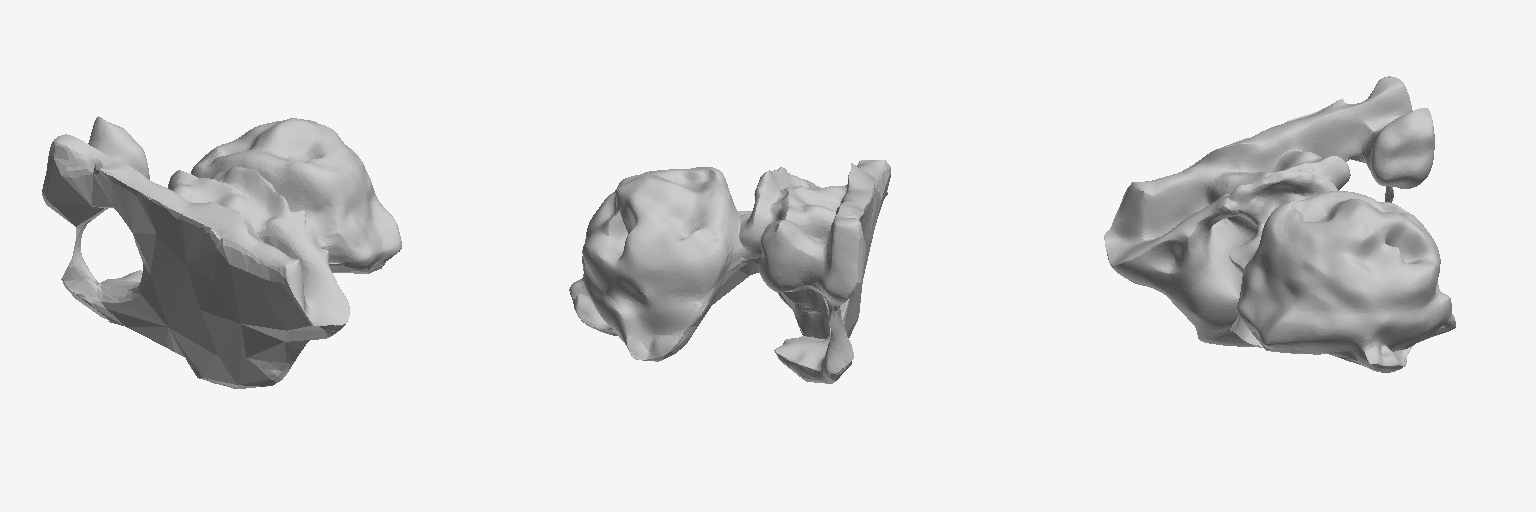
Rendered from diluc.obj.
3 renders of one model, left to right at view 1: azimuth 30°, elevation 25°; view 2: azimuth 150°, elevation 25°; view 3: azimuth 270°, elevation 25°, orthographic.
Parts seen in each view (by area): view 1: obj1; view 2: obj1; view 3: obj1.
Boxes of the visible parts, <box> form: obj1: <box>42,116,401,388</box>; obj1: <box>569,160,890,383</box>; obj1: <box>1104,76,1455,372</box>.
Size of the model in its own units: 0.6388 by 0.4422 by 0.641.